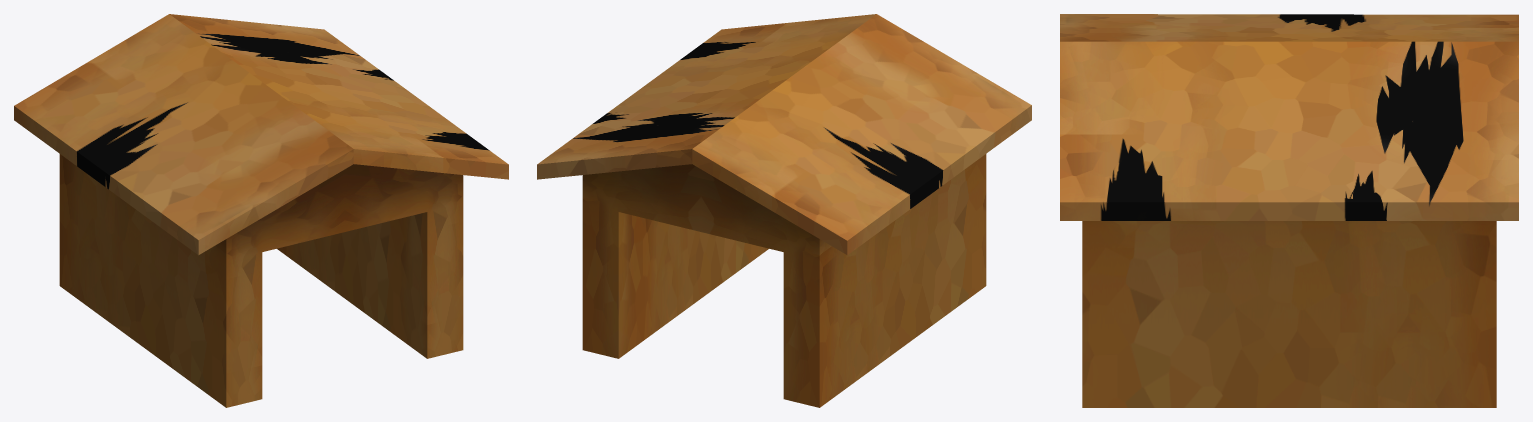
File: hut 1.fbx
3 views of the same model, side by side, from view 1: azimuth 30°, elevation 25°; view 2: azimuth 150°, elevation 25°; view 3: azimuth 270°, elevation 25° (orthographic). The views are drawn at different scales.
Parts seen in each view (by area): view 1: polySurface14; view 2: polySurface14; view 3: polySurface14.
Boxes of the visible parts, x1=… form: polySurface14: x1=14, y1=14, x2=508, y2=407; polySurface14: x1=537, y1=14, x2=1031, y2=407; polySurface14: x1=1060, y1=14, x2=1518, y2=407.
Size of the model in its own units: 13.22 by 9.63 by 13.62.
